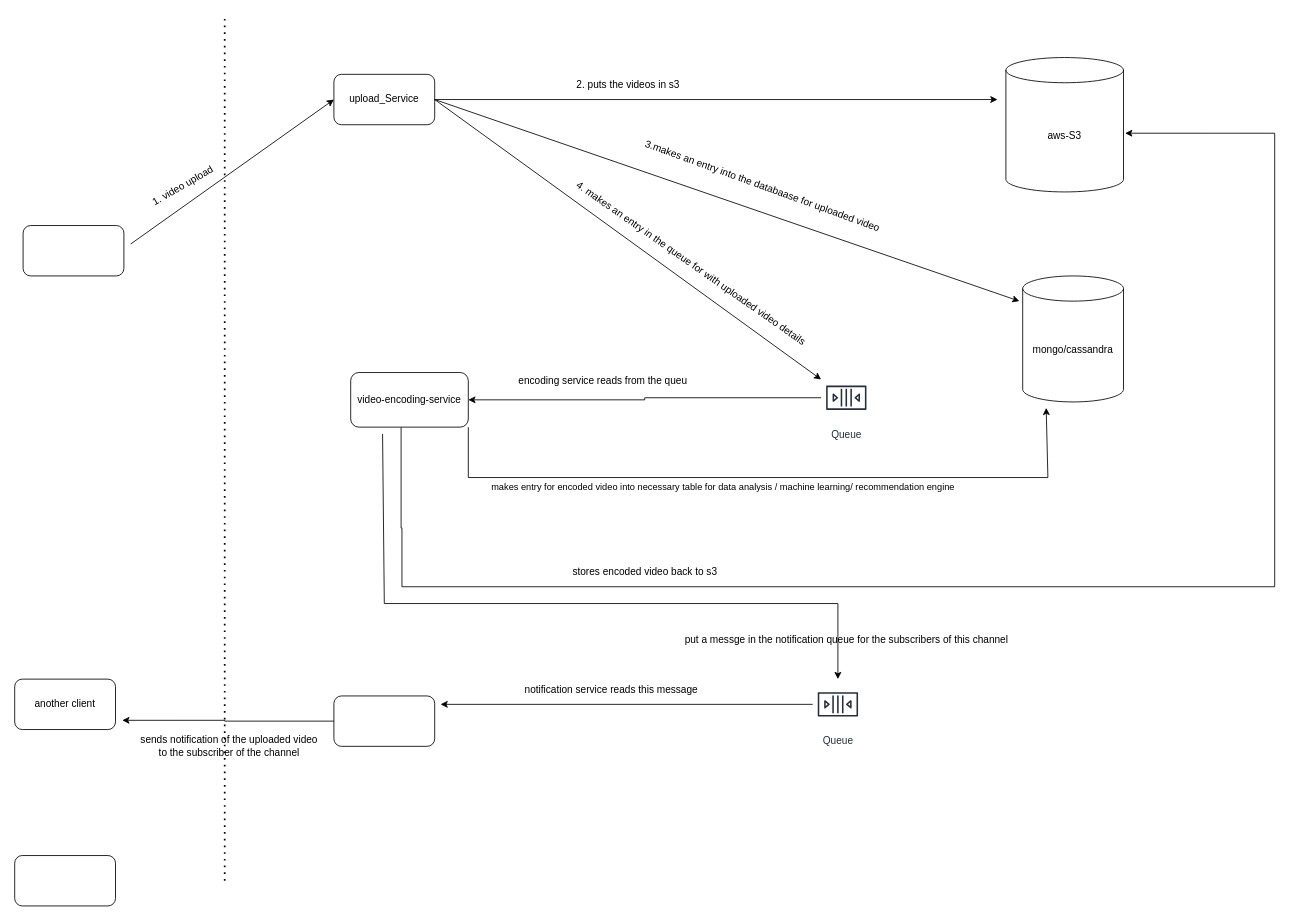
The diagram is 1296 pixels wide and 921 high, and some of its shapes have lost their labels. Here are the shapes that lost their labels. From the top down, the box of each, then its label:
(22, 225, 124, 276): client system
(333, 695, 435, 746): notification service
(14, 855, 116, 906): one more client system
